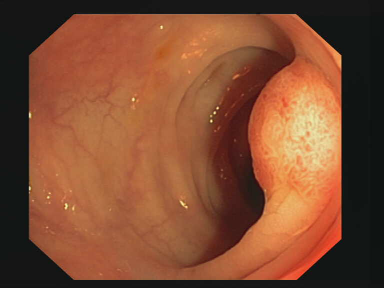polyp: (235, 59, 347, 216)
